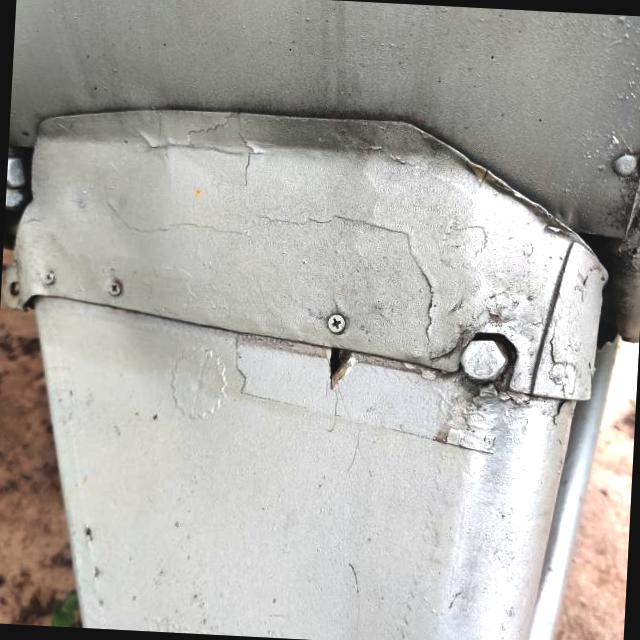crack: (310, 336, 371, 404)
